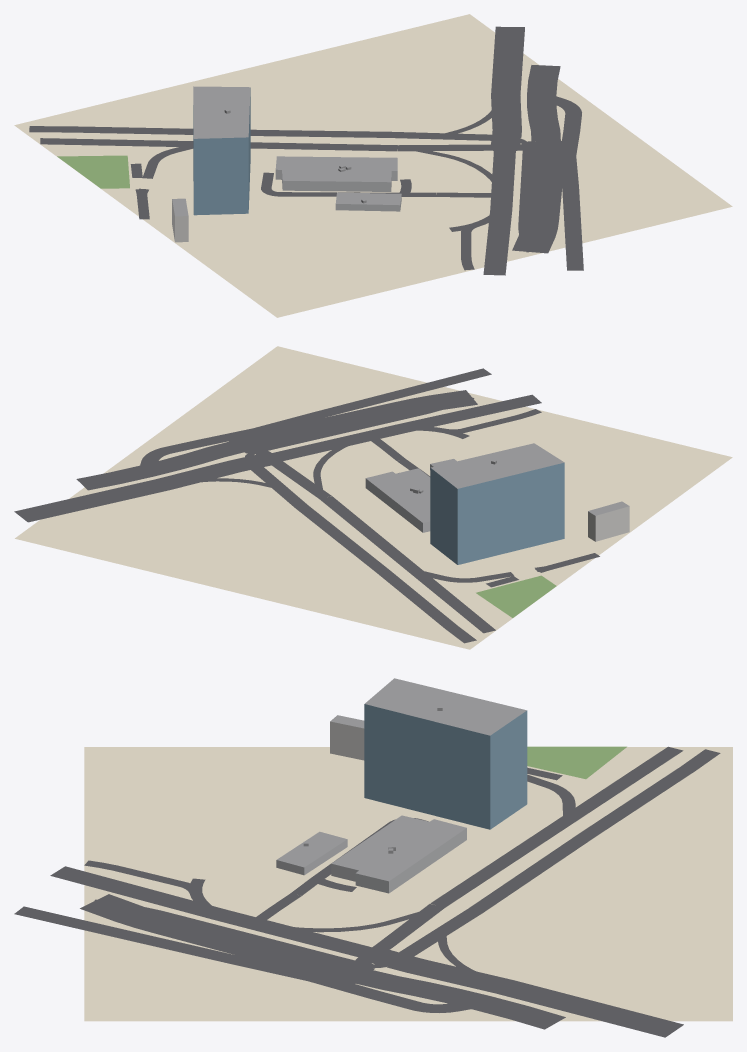
Rendered from tile_2_-7_far.glb.
3 renders of one model, top to bottom at view 1: azimuth 30°, elevation 25°; view 2: azimuth 150°, elevation 25°; view 3: azimuth 270°, elevation 25°, orthographic. The views are drawn at different scales.
Parts seen in each view (by area): view 1: nature_ground, roads_asphalt, buildings_roof, buildings_glass_blue, buildings_industrial, nature_grass; view 2: nature_ground, roads_asphalt, buildings_glass_blue, buildings_roof, nature_grass, buildings_concrete_light, buildings_industrial; view 3: nature_ground, roads_asphalt, buildings_glass_blue, buildings_roof, buildings_industrial, nature_grass, buildings_concrete_light.
Part boxes in pixels (left/top/right/bottom): nature_ground: left=14, top=14, right=732, bottom=317; roads_asphalt: left=29, top=26, right=583, bottom=275; buildings_roof: left=172, top=86, right=401, bottom=216; buildings_glass_blue: left=193, top=88, right=250, bottom=215; buildings_industrial: left=275, top=169, right=401, bottom=211; nature_grass: left=57, top=155, right=129, bottom=188; nature_ground: left=15, top=346, right=732, bottom=649; roads_asphalt: left=14, top=368, right=599, bottom=643; buildings_glass_blue: left=430, top=462, right=564, bottom=564; buildings_roof: left=366, top=443, right=629, bottom=522; nature_grass: left=476, top=575, right=556, bottom=617; buildings_concrete_light: left=588, top=506, right=629, bottom=541; buildings_industrial: left=365, top=464, right=433, bottom=532; nature_ground: left=84, top=747, right=732, bottom=1021; roads_asphalt: left=14, top=746, right=720, bottom=1037; buildings_glass_blue: left=364, top=704, right=527, bottom=829; buildings_roof: left=277, top=678, right=526, bottom=881; buildings_industrial: left=276, top=828, right=466, bottom=893; nature_grass: left=527, top=746, right=626, bottom=779; buildings_concrete_light: left=330, top=721, right=364, bottom=760.
Bounding box in the file's own units: 267 × 41.42 × 277.
